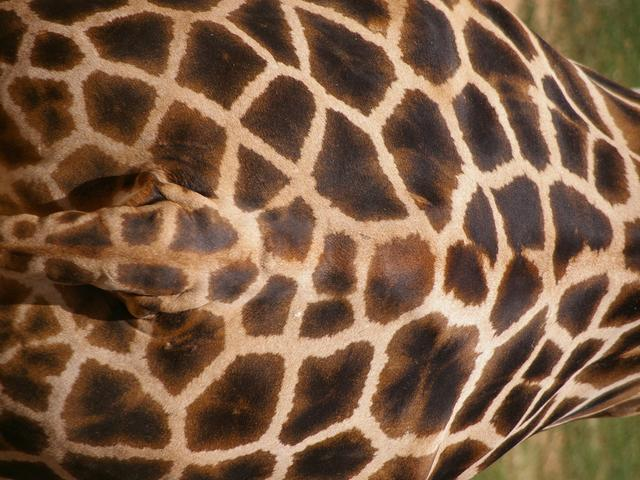giraffe: (18, 10, 630, 429)
